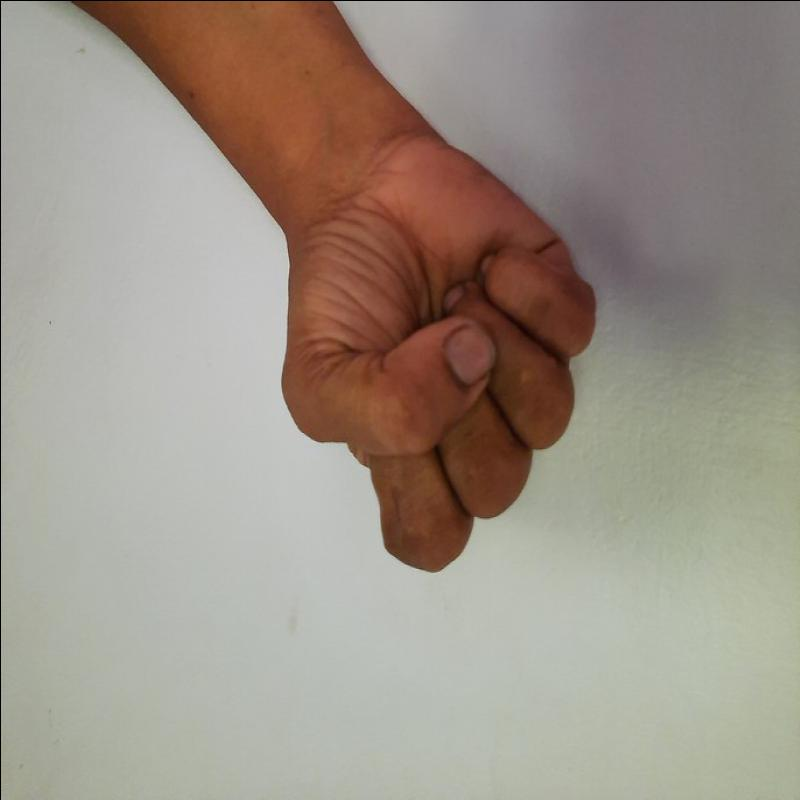Mushti: (262, 123, 624, 583)
